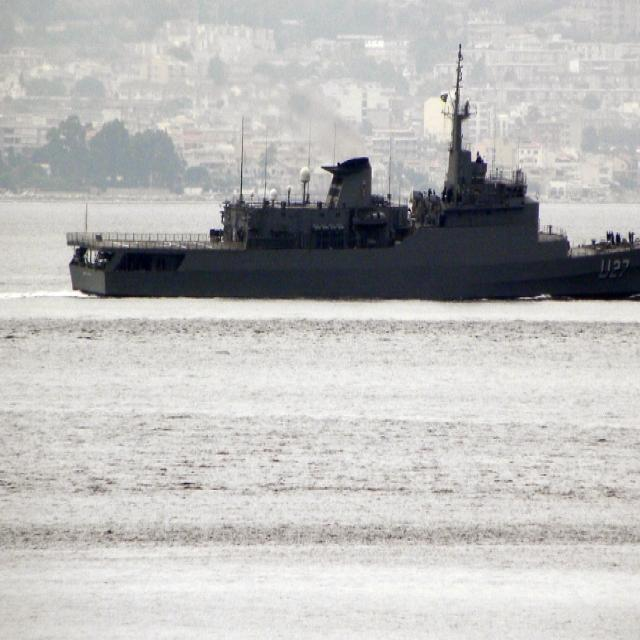Fragata: (66, 38, 640, 307)
